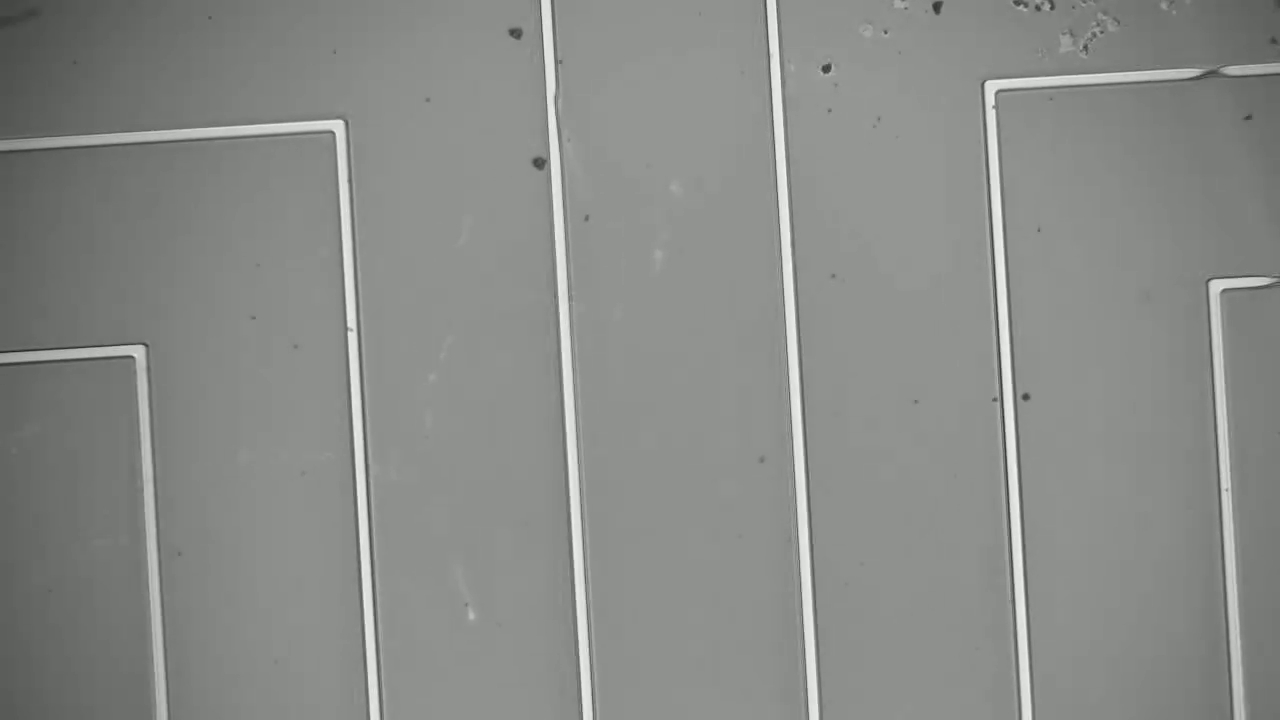edge_bite: (1185, 52, 1238, 90), (1262, 263, 1280, 297)
